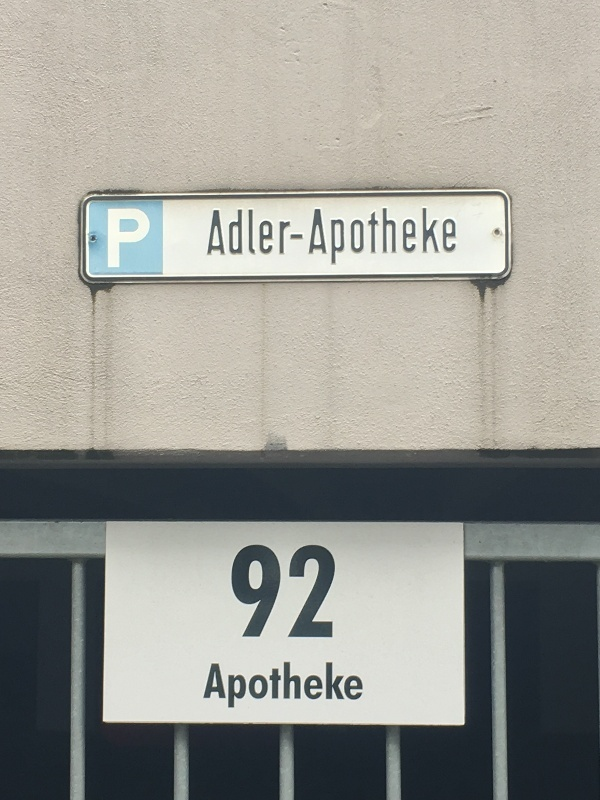text: (241, 545, 256, 641), (257, 545, 272, 641), (273, 545, 288, 641), (289, 545, 304, 641), (305, 545, 320, 641), (321, 545, 336, 641), (225, 207, 240, 268), (241, 207, 256, 268), (257, 207, 272, 268), (273, 207, 288, 268), (289, 207, 304, 268), (305, 207, 320, 268), (321, 207, 336, 268), (337, 207, 352, 268), (353, 207, 368, 268), (369, 207, 384, 268), (385, 207, 400, 268), (401, 207, 416, 268), (417, 207, 432, 268), (433, 207, 448, 268), (113, 208, 128, 268), (129, 208, 144, 268), (231, 545, 240, 641), (225, 663, 240, 711), (241, 663, 256, 711), (257, 663, 272, 711), (273, 663, 288, 711), (289, 663, 304, 711), (305, 663, 320, 711), (321, 663, 336, 711), (337, 663, 352, 711), (211, 663, 224, 711), (214, 207, 224, 268), (449, 207, 459, 268), (353, 663, 365, 711), (145, 208, 151, 268), (108, 208, 112, 268)
